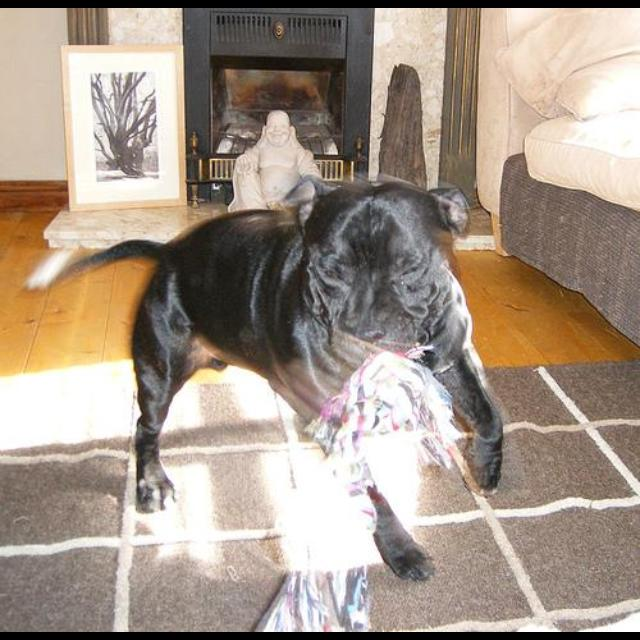staffford: (25, 177, 506, 584)
